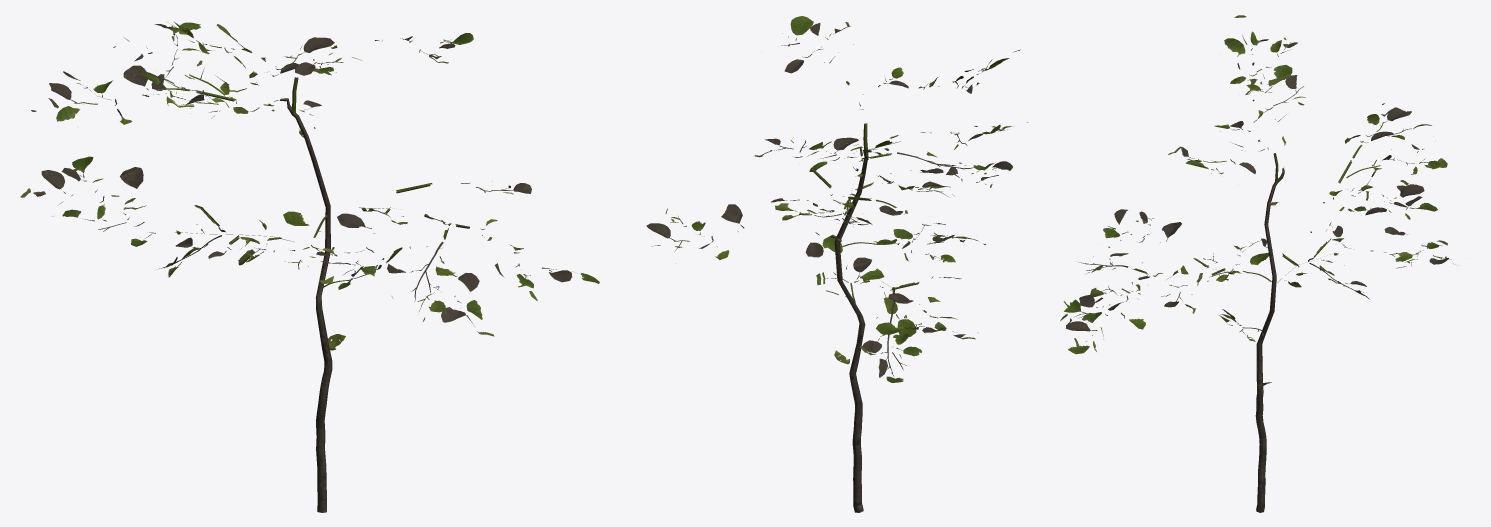
File: SM_BlackAlder_Sapling_03_PP_LOD1.gltf
3 renders of one model, left to right at view 1: azimuth 30°, elevation 25°; view 2: azimuth 150°, elevation 25°; view 3: azimuth 270°, elevation 25°, orthographic. The views are drawn at different scales.
Parts seen in each view (by area): view 1: SM_BlackAlder_Sapling_03_PP; view 2: SM_BlackAlder_Sapling_03_PP; view 3: SM_BlackAlder_Sapling_03_PP.
Part boxes in pixels (x1,y1,x2,y2): SM_BlackAlder_Sapling_03_PP: (20,22,599,512); SM_BlackAlder_Sapling_03_PP: (646,16,1027,512); SM_BlackAlder_Sapling_03_PP: (1060,15,1454,512).
Size of the model in its own units: 1.36 by 1.81 by 1.58.
1 material, 1 textured.
